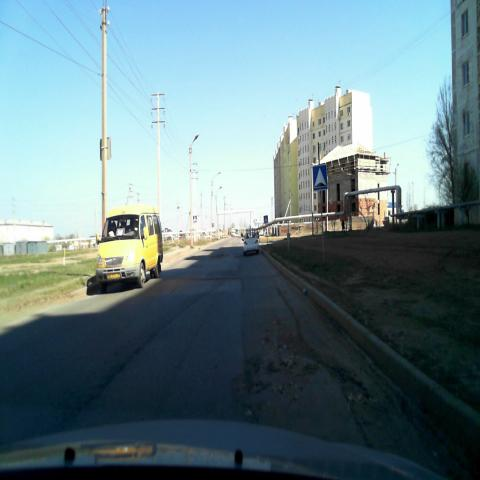5_20: (312, 164, 329, 192)
